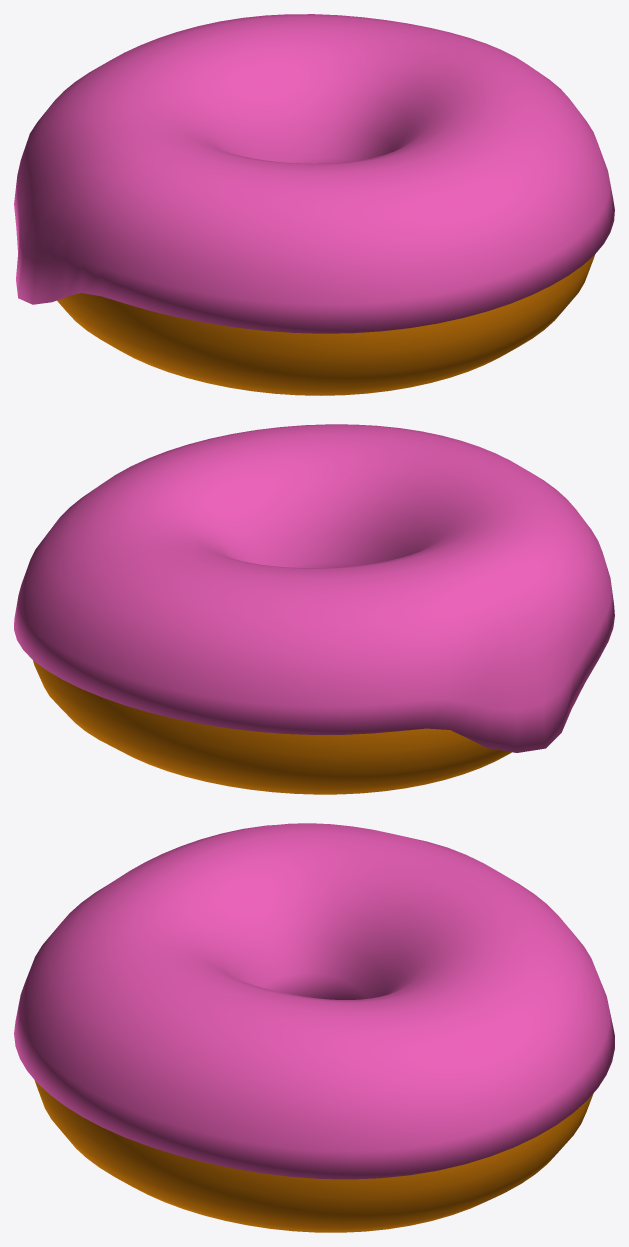
Rendered from DougnutV2.glb.
3 renders of one model, top to bottom at view 1: azimuth 30°, elevation 25°; view 2: azimuth 150°, elevation 25°; view 3: azimuth 270°, elevation 25°, orthographic. The views are drawn at different scales.
Visible parts, largest first — view 1: Icing, Donut; view 2: Icing, Donut; view 3: Icing, Donut.
Boxes of the visible parts, box(x1,y1,x2,y2) form: Icing: box(14, 14, 614, 333); Donut: box(57, 255, 594, 395); Icing: box(14, 424, 614, 752); Donut: box(33, 660, 583, 794); Icing: box(14, 823, 614, 1179); Donut: box(34, 1080, 593, 1232).
Size of the model in its own units: 1.32 by 0.5353 by 1.3.
